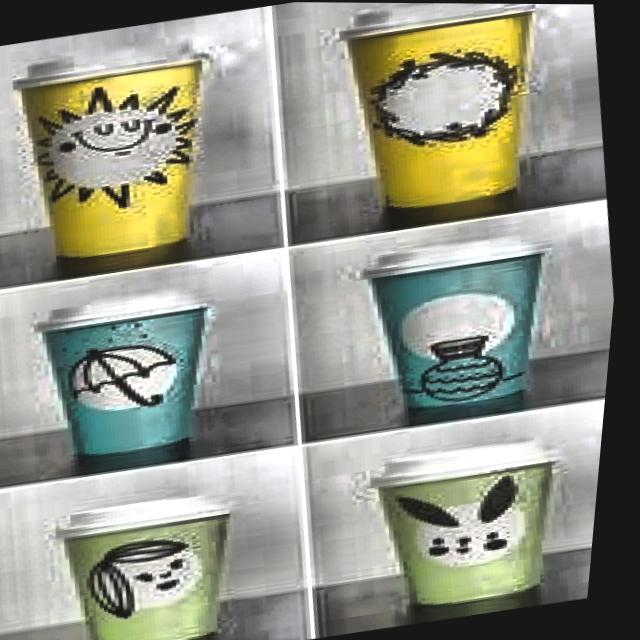Cup: (0, 29, 258, 277), (326, 2, 572, 226), (19, 272, 269, 481), (348, 223, 582, 420), (353, 433, 602, 616), (52, 487, 230, 640)
